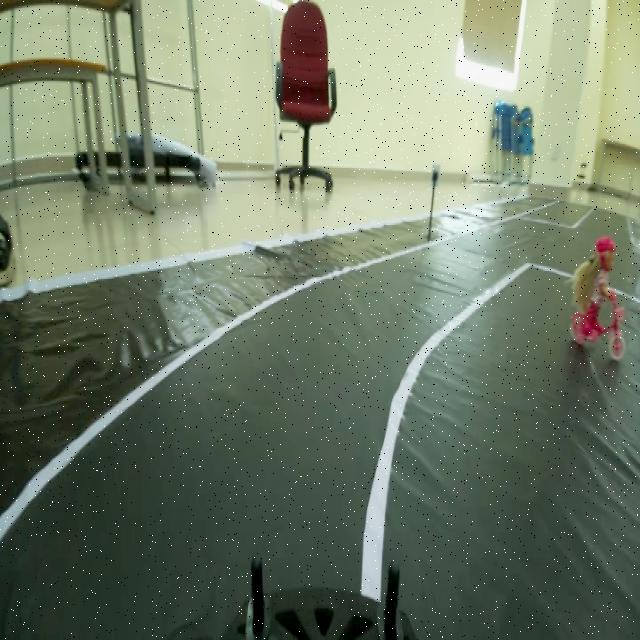pedestrian: (575, 224, 628, 354)
